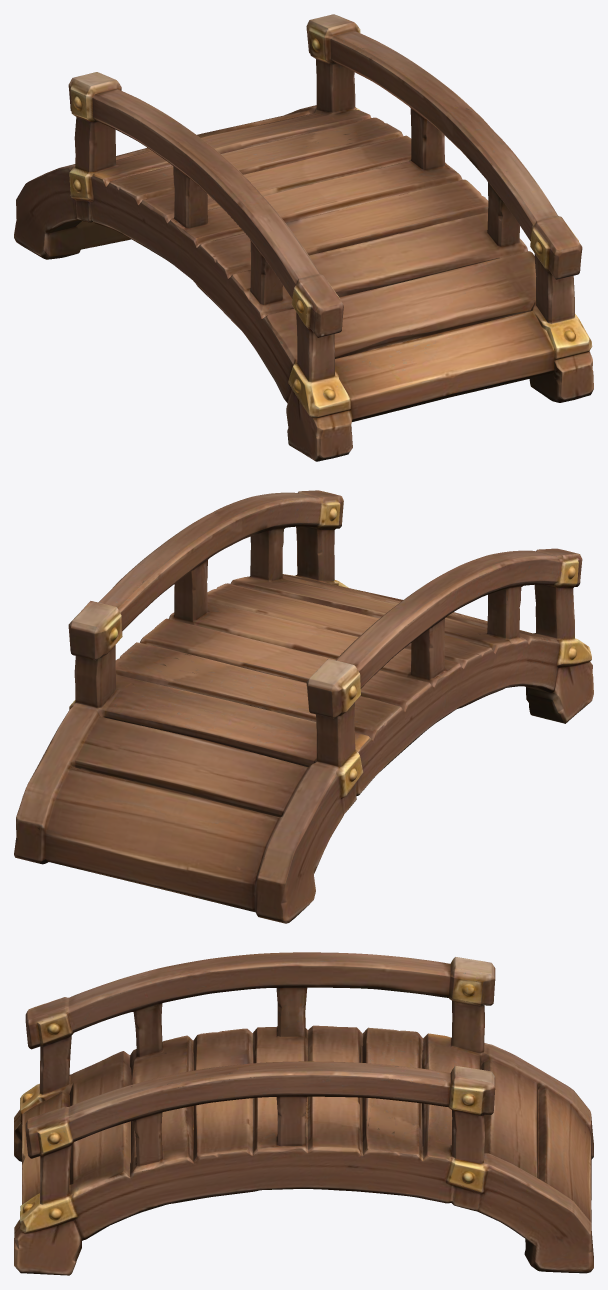
3 renders of one model, top to bottom at view 1: azimuth 30°, elevation 25°; view 2: azimuth 150°, elevation 25°; view 3: azimuth 270°, elevation 25°, orthographic. The views are drawn at different scales.
Visible parts, largest first — view 1: node_0; view 2: node_0; view 3: node_0.
Boxes of the visible parts, <box> form: node_0: <box>14,14,593,461</box>; node_0: <box>14,490,593,923</box>; node_0: <box>14,952,593,1275</box>.
Size of the model in its own units: 0.5413 by 0.3905 by 1.02.
1 material, 1 textured.
